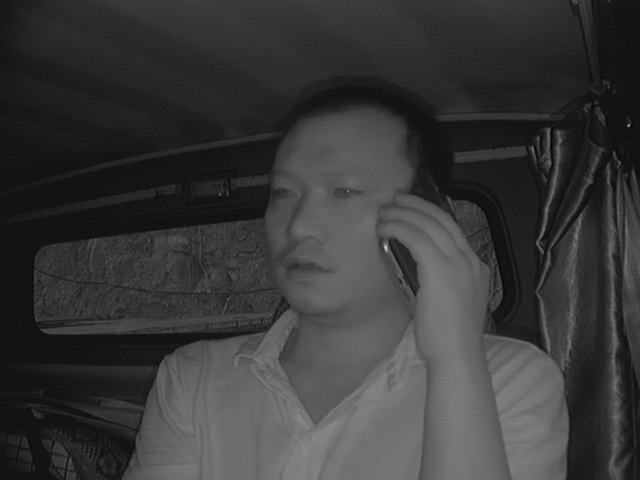hand: (377, 187, 487, 356)
